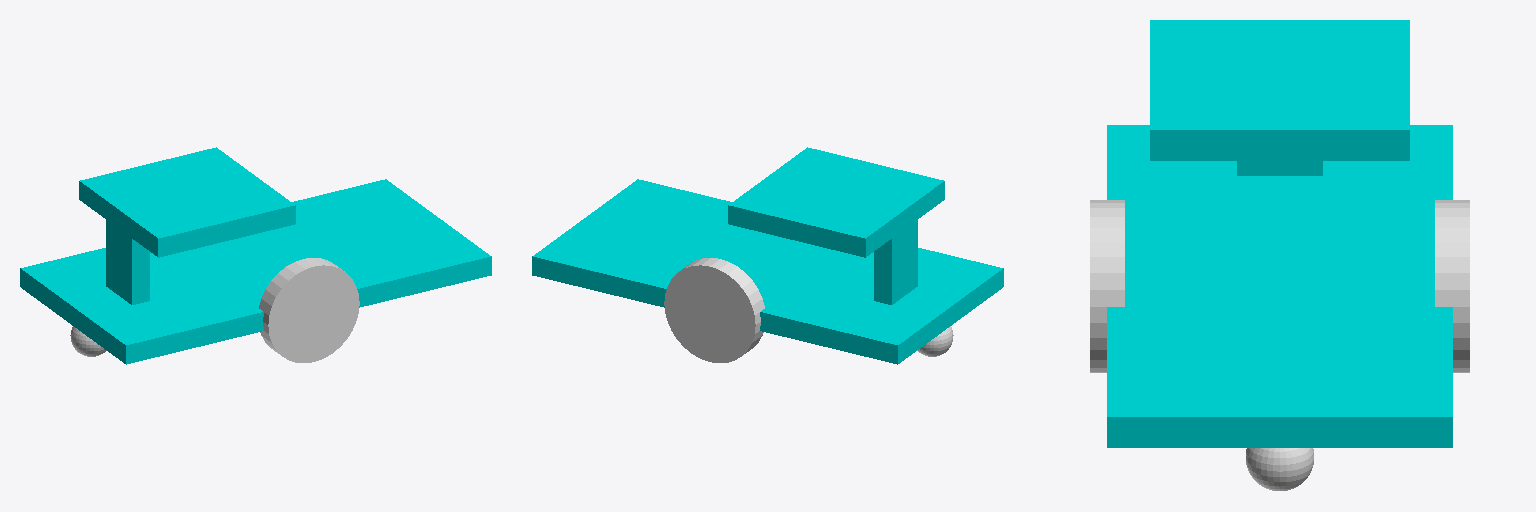
robot.urdf — robot_TUXAE:
<robot name="robot_TUXAE">
 	<link name="base_link">
		<visual>
		    <origin xyz="0 0 0" rpy="0 0 0"/>
			<geometry>
				<box size="0.40 0.20 0.02"/>
			</geometry>
			<material name="Cyan1">
	       		<color rgba="0 0.9 0.9 1.0"/>
	     	</material>
		</visual>	
		<inertial>
      		<mass value="5"/>
      		<origin xyz="0 0 0"/>
      		<inertia ixx="0.0001" ixy="0.0" ixz="0.0" iyy="0.0001" iyz="0.0" izz="0.0001"/>
		</inertial>
	</link>
 	<link name="structure_verticale">
		<visual>
		    <origin xyz="-0.14 0 0.05" rpy="0 0 0"/>
			<geometry>
				<box size="0.02 0.05 0.1"/>
			</geometry>
			<material name="Cyan1">
	       		<color rgba="0 0.9 0.9 1.0"/>
	     	</material>
		</visual>	
		<inertial>
      		<mass value="0.2"/>
      		<origin xyz="0 0 0"/>
      		<inertia ixx="0.0001" ixy="0.0" ixz="0.0" iyy="0.0001" iyz="0.0" izz="0.0001"/>
		</inertial>
	</link>
 	<link name="structure_horizontale">
		<visual>
		    <origin xyz="-0.075 0 0.09" rpy="0 0 0"/>
			<geometry>
				<box size="0.15 0.15 0.02"/>
			</geometry>
			<material name="Cyan1">
	       		<color rgba="0 0.9 0.9 1.0"/>
	     	</material>
		</visual>	
		<inertial>
      		<mass value="0.2"/>
      		<origin xyz="0 0 0"/>
      		<inertia ixx="0.0001" ixy="0.0" ixz="0.0" iyy="0.0001" iyz="0.0" izz="0.0001"/>
		</inertial>
	</link>

	<link name="roue_gauche">
		<visual>
			<origin xyz="0 0 0" rpy="0 0 0"/>
			<geometry>
				<cylinder radius="0.05" length="0.02"/>
			</geometry>
	     	<material name="Grey1">
				<color rgba="0.9 0.9 0.9 1.0"/>
			</material>
	   </visual>
		<collision>
			<origin xyz="0 0 0" rpy="0 0 0"/>
			<geometry>
				<cylinder radius="0.05" length="0.02"/>
			</geometry>
    	</collision>
		<inertial>
      		<mass value="0.1"/>
      		<origin xyz="0 0 0"/>
      		<inertia ixx="0.0001" ixy="0.0" ixz="0.0" iyy="0.0001" iyz="0.0" izz="0.0001"/>
		</inertial>
		<contact>
			<lateral_friction value="1.0"/>
			<rolling_friction value="0.0"/>
			<stiffness value="30000"/>
			<damping value="1000"/>
		</contact>
	</link>

	<joint name="joint_roue_gauche" type="revolute">
    	<parent link="base_link"/>
    	<child link="roue_gauche"/>
    	<origin xyz="0 0.1 0" rpy="-1.57079632679 0 0"/>
    	<axis xyz="0 0 1"/>
    	<limit lower="-3.1416" upper="3.1416" effort="10" velocity="3"/>
  	</joint>

	<link name="roue_droite">
		<visual>
			<origin xyz="0 0 0" rpy="0 0 0"/>
			<geometry>
				<cylinder radius="0.05" length="0.02"/>
			</geometry>
	     	<material name="Grey1">
				<color rgba="0.9 0.9 0.9 1.0"/>
			</material>
	   </visual>
		<collision>
			<origin xyz="0 0 0" rpy="0 0 0"/>
			<geometry>
				<cylinder radius="0.05" length="0.02"/>
			</geometry>
    	</collision>
		<inertial>
      		<mass value="0.1"/>
      		<origin xyz="0 0 0"/>
      		<inertia ixx="0.0001" ixy="0.0" ixz="0.0" iyy="0.0001" iyz="0.0" izz="0.0001"/>
		</inertial>
		<contact>
			<lateral_friction value="1.0"/>
			<rolling_friction value="0.0"/>
			<stiffness value="30000"/>
			<damping value="1000"/>
		</contact>
	</link>

	<joint name="joint_roue_droite" type="revolute">
    	<parent link="base_link"/>
    	<child link="roue_droite"/>
    	<origin xyz="0 -0.1 0" rpy="1.57079632679 0 0"/>
    	<axis xyz="0 0 1"/>
    	<limit lower="-3.1416" upper="3.1416" effort="10" velocity="3"/>
  	</joint>


	
	<link name="roue_libre_avant">
		<visual>
			<origin xyz="0 0 0" rpy="0 0 0"/>
			<geometry>
				<sphere radius="0.02"/>
			</geometry>
	     	<material name="Grey1">
				<color rgba="0.9 0.9 0.9 1.0"/>
			</material>
	   </visual>
		<collision>
			<origin xyz="0 0 0" rpy="0 0 0"/>
			<geometry>
				<sphere radius="0.02"/>
			</geometry>
    	</collision>
		<inertial>
      		<mass value="0.2"/>
      		<origin xyz="0 0 0"/>
      		<inertia ixx="0.0001" ixy="0.0" ixz="0.0" iyy="0.0001" iyz="0.0" izz="0.0001"/>
		</inertial>
    <contact>
      <lateral_friction value="0.0"/>
      <rolling_friction value="0.0"/>
      <stiffness value="30000"/>
      <damping value="10000"/>
    </contact>
	</link>

	<link name="roue_libre_arriere">
		<visual>
			<origin xyz="0 0 0" rpy="0 0 0"/>
			<geometry>
				<sphere radius="0.02"/>
			</geometry>
	     	<material name="Grey1">
				<color rgba="0.9 0.9 0.9 1.0"/>
			</material>
	   </visual>
		<collision>
			<origin xyz="0 0 0" rpy="0 0 0"/>
			<geometry>
				<sphere radius="0.02"/>
			</geometry>
    	</collision>
		<inertial>
      		<mass value="0.2"/>
      		<origin xyz="0 0 0"/>
      		<inertia ixx="0.0001" ixy="0.0" ixz="0.0" iyy="0.0001" iyz="0.0" izz="0.0001"/>
		</inertial>
		<contact>
			<lateral_friction value="0.0"/>
			<rolling_friction value="0.0"/>
			<stiffness value="30000"/>
			<damping value="10000"/>
		</contact>
	</link>

 	<joint name="joint_roue_libre_avant" type="fixed">
    	<parent link="base_link"/>
    	<child link="roue_libre_avant"/>
		<origin xyz="0.18 0 -0.025" rpy="0 0 0"/>
	</joint>
 	<joint name="joint_roue_libre_arriere" type="fixed">
    	<parent link="base_link"/>
    	<child link="roue_libre_arriere"/>
		<origin xyz="-0.18 0 -0.025" rpy="0 0 0"/>
	</joint>
	

 	<joint name="joint_structure_verticale" type="fixed">
    	<parent link="base_link"/>
    	<child link="structure_verticale"/>
	</joint>
 	<joint name="joint_structure_horizontale" type="fixed">
    	<parent link="structure_verticale"/>
    	<child link="structure_horizontale"/>
	</joint>
</robot>

--- Render facts (derived) ---
3 views of the same robot in one strip: view 1: azimuth 30°, elevation 25°; view 2: azimuth 150°, elevation 25°; view 3: azimuth 270°, elevation 25° (orthographic).
Robot: robot_TUXAE — 7 links, 6 joints (2 revolute, 4 fixed); root link base_link; default pose: every joint at zero.
Visible links, largest first — view 1: base_link, structure_horizontale, roue_droite, structure_verticale, roue_libre_arriere; view 2: base_link, structure_horizontale, roue_gauche, structure_verticale, roue_libre_arriere; view 3: base_link, structure_horizontale, roue_gauche, roue_droite, structure_verticale, roue_libre_avant.
Boxes of the visible links, x1,y1,x2,y2 form: base_link: [20, 179, 491, 364]; structure_horizontale: [79, 147, 295, 257]; roue_droite: [259, 258, 359, 362]; structure_verticale: [106, 198, 149, 304]; roue_libre_arriere: [70, 326, 106, 356]; base_link: [532, 179, 1003, 364]; structure_horizontale: [728, 147, 944, 257]; roue_gauche: [664, 258, 764, 362]; structure_verticale: [874, 198, 917, 304]; roue_libre_arriere: [917, 326, 953, 356]; base_link: [1107, 125, 1452, 447]; structure_horizontale: [1150, 20, 1409, 160]; roue_gauche: [1435, 200, 1469, 372]; roue_droite: [1090, 200, 1124, 372]; structure_verticale: [1237, 20, 1322, 175]; roue_libre_avant: [1246, 448, 1313, 490].
Size in the robot's own frame: 0.4 by 0.22 by 0.15 metres.
Geometry: primitives only (box / cylinder / sphere), no mesh files.
